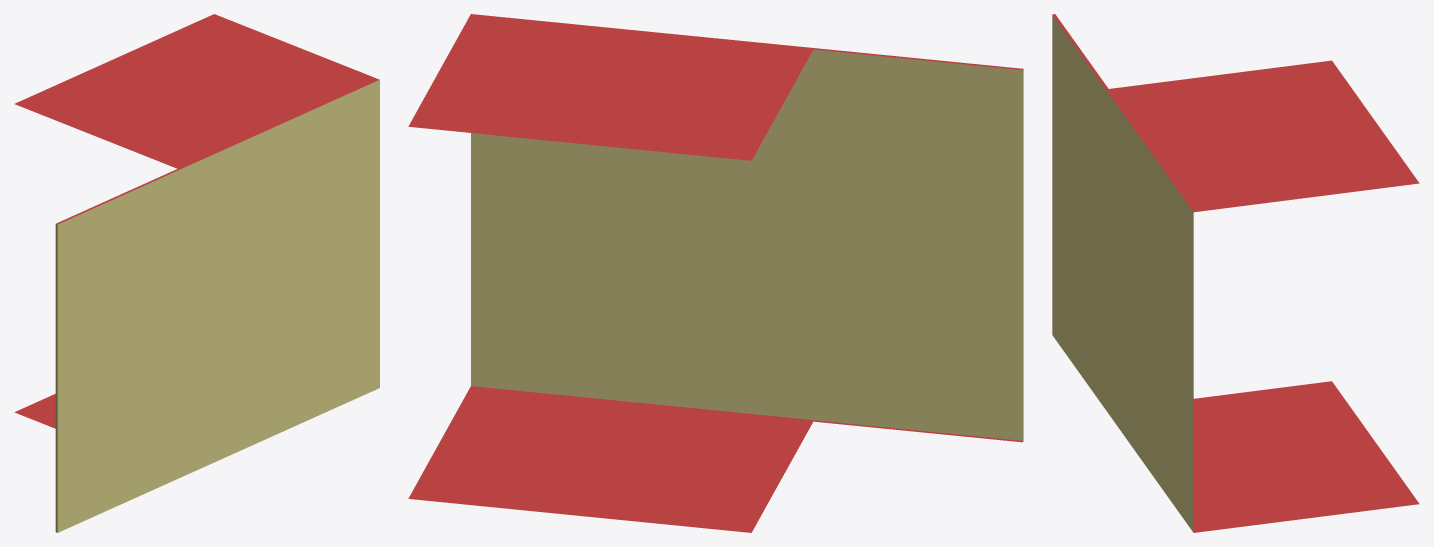
3 views of the same model, side by side, from view 1: azimuth 30°, elevation 25°; view 2: azimuth 150°, elevation 25°; view 3: azimuth 270°, elevation 25° (orthographic). The views are drawn at different scales.
Size of the model in its own units: 8.8 by 6.89 by 6.63.
